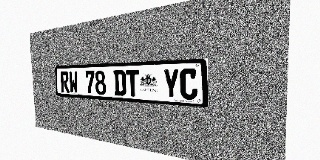7: (85, 71, 95, 94)
8: (95, 70, 106, 95)
C: (180, 68, 198, 100)
D: (113, 70, 126, 96)
R: (60, 71, 69, 93)
T: (126, 70, 139, 97)
W: (69, 71, 78, 93)
Y: (163, 69, 179, 99)
